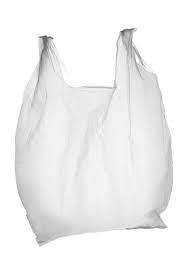Plastic bag: (14, 11, 179, 252)
